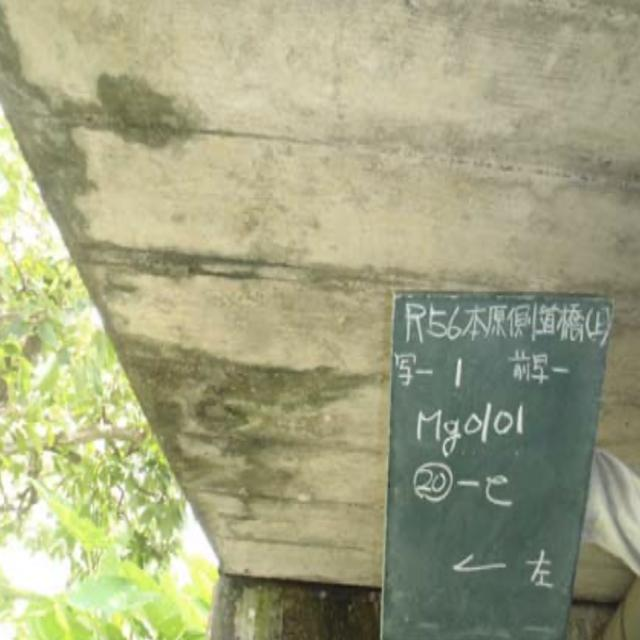leakage: (121, 333, 360, 514), (6, 56, 196, 207)
